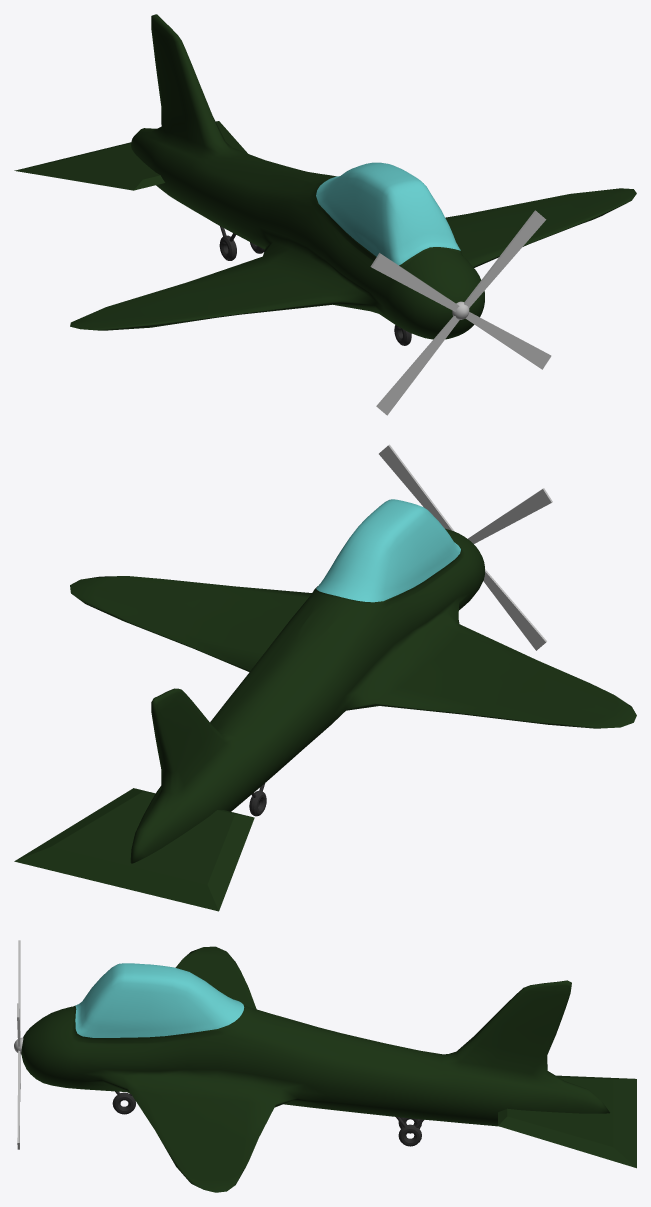
The model's file is Avion2new.obj.
3 views of the same model, one above another, from view 1: azimuth 30°, elevation 25°; view 2: azimuth 150°, elevation 25°; view 3: azimuth 270°, elevation 25° (orthographic). The views are drawn at different scales.
Parts seen in each view (by area): view 1: CuerpoA2 Cuerpo_Avion2 Avion2, Cuerpo_Avion2 Avion2 ParabrisasA2, Cuerpo_Avion2 Avion2 AlaTrasera_A2, Avion2 Helices_A2 Helice2_A2, Avion2 Helices_A2 Helice1_A2, Avion2 Helice4_A2 Helices_A2, Avion2 Helices_A2 Helice3_A2; view 2: CuerpoA2 Cuerpo_Avion2 Avion2, Cuerpo_Avion2 Avion2 AlaTrasera_A2, Cuerpo_Avion2 Avion2 ParabrisasA2, Avion2 Helices_A2 Helice1_A2, Avion2 Helice4_A2 Helices_A2, Avion2 Helices_A2 Helice2_A2; view 3: CuerpoA2 Cuerpo_Avion2 Avion2, Cuerpo_Avion2 Avion2 ParabrisasA2, Cuerpo_Avion2 Avion2 AlaTrasera_A2, Avion2 Ruedas_A2 Rueda1_A2, Avion2 Ruedas_A2 Rueda3_A2.
Boxes of the visible parts, x1=… form: CuerpoA2 Cuerpo_Avion2 Avion2: x1=70, y1=14, x2=636, y2=339; Cuerpo_Avion2 Avion2 ParabrisasA2: x1=316, y1=162, x2=460, y2=265; Cuerpo_Avion2 Avion2 AlaTrasera_A2: x1=14, y1=121, x2=247, y2=190; Avion2 Helices_A2 Helice2_A2: x1=376, y1=316, x2=459, y2=415; Avion2 Helices_A2 Helice1_A2: x1=464, y1=210, x2=546, y2=307; Avion2 Helice4_A2 Helices_A2: x1=370, y1=253, x2=459, y2=311; Avion2 Helices_A2 Helice3_A2: x1=465, y1=312, x2=551, y2=369; CuerpoA2 Cuerpo_Avion2 Avion2: x1=70, y1=528, x2=636, y2=863; Cuerpo_Avion2 Avion2 AlaTrasera_A2: x1=14, y1=788, x2=254, y2=911; Cuerpo_Avion2 Avion2 ParabrisasA2: x1=316, y1=499, x2=460, y2=602; Avion2 Helices_A2 Helice1_A2: x1=379, y1=444, x2=454, y2=531; Avion2 Helice4_A2 Helices_A2: x1=468, y1=488, x2=552, y2=543; Avion2 Helices_A2 Helice2_A2: x1=483, y1=569, x2=546, y2=650; CuerpoA2 Cuerpo_Avion2 Avion2: x1=21, y1=946, x2=609, y2=1192; Cuerpo_Avion2 Avion2 ParabrisasA2: x1=75, y1=963, x2=244, y2=1037; Cuerpo_Avion2 Avion2 AlaTrasera_A2: x1=498, y1=1075, x2=636, y2=1168; Avion2 Ruedas_A2 Rueda1_A2: x1=112, y1=1092, x2=135, y2=1114; Avion2 Ruedas_A2 Rueda3_A2: x1=398, y1=1124, x2=421, y2=1146.
Size of the model in its own units: 5.34 by 1.73 by 5.71.
